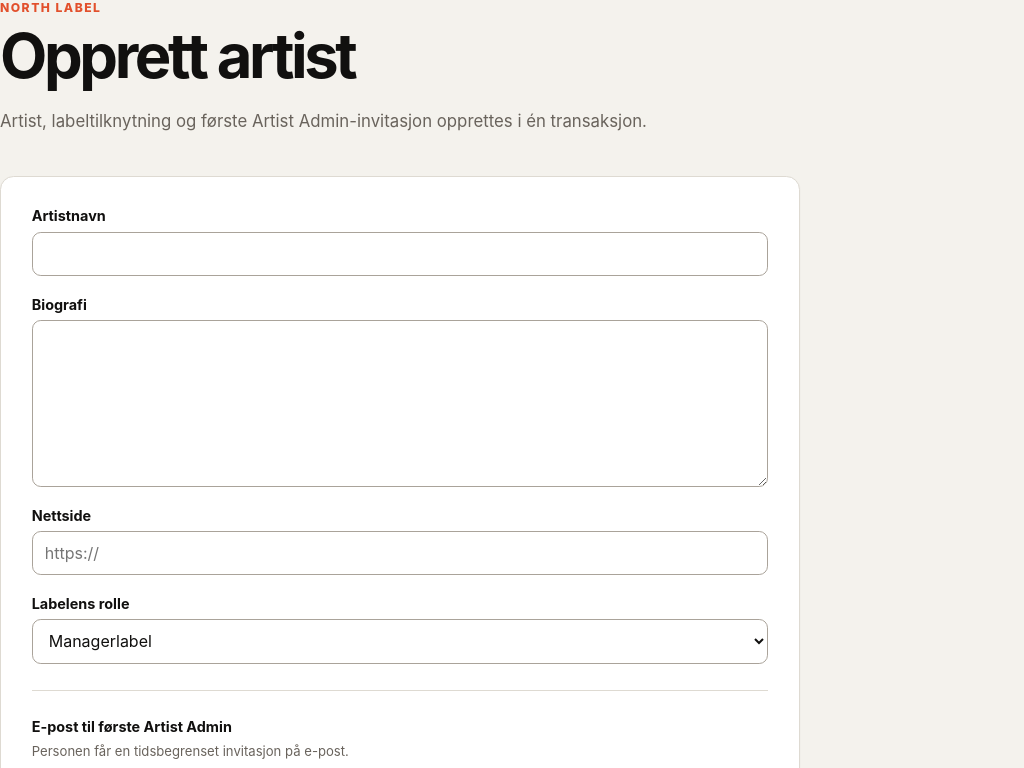
Test: CreateArtistPage › onboards the artist and first Artist Admin in one action
This screenshot has width=1024, height=768.
Step 1. Type "Midnight Echo" into the field labelled "Artistnavn" → (400, 254), box [32,232,768,276]
(page scrolled)
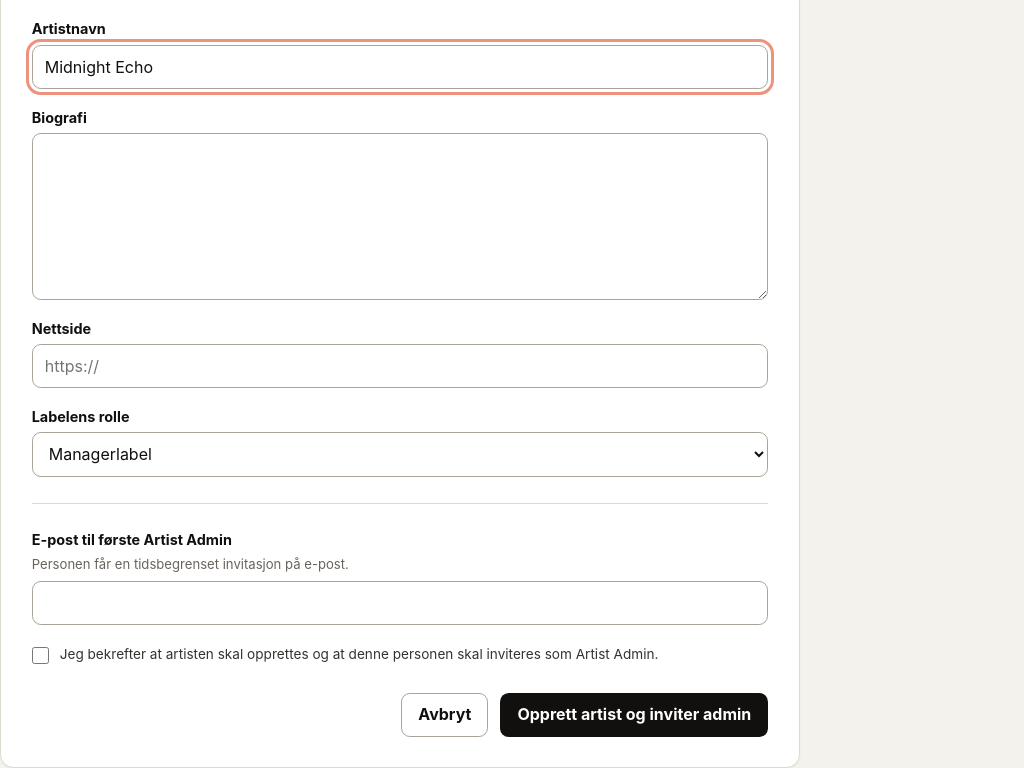
Step 2. Type "artist-admin@example.com" into the field labelled "E-post til første Artist Admin" → (400, 603), box [32,581,768,625]
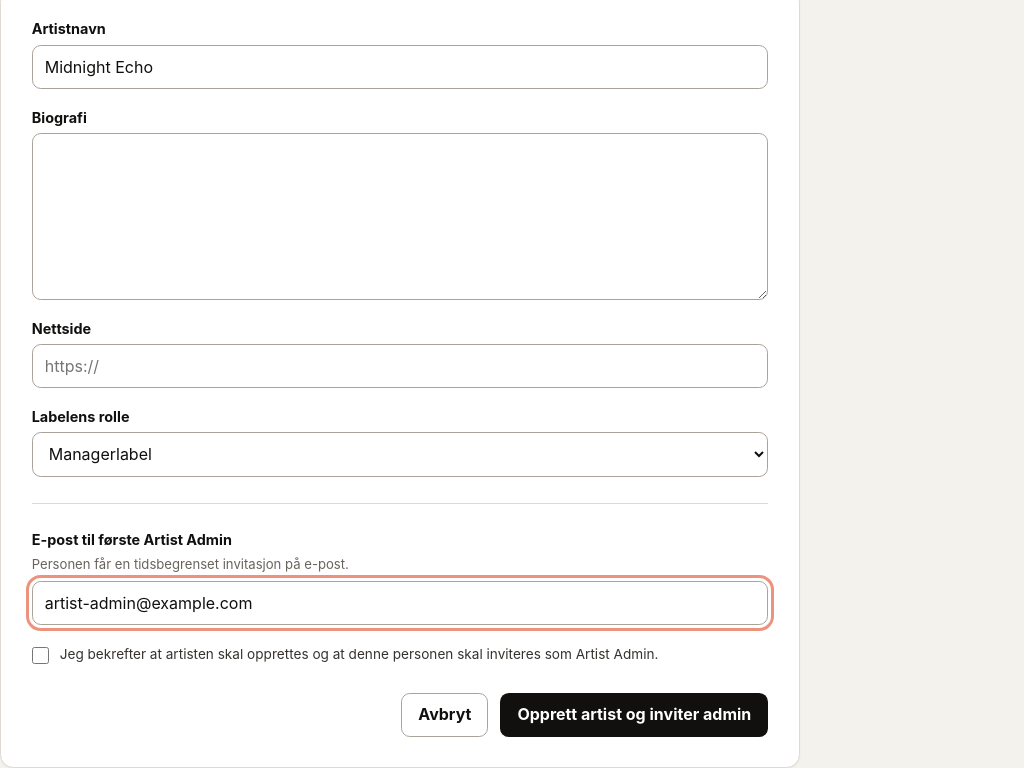
Step 3. Click the checkbox → (40, 656), box [32,647,48,664]
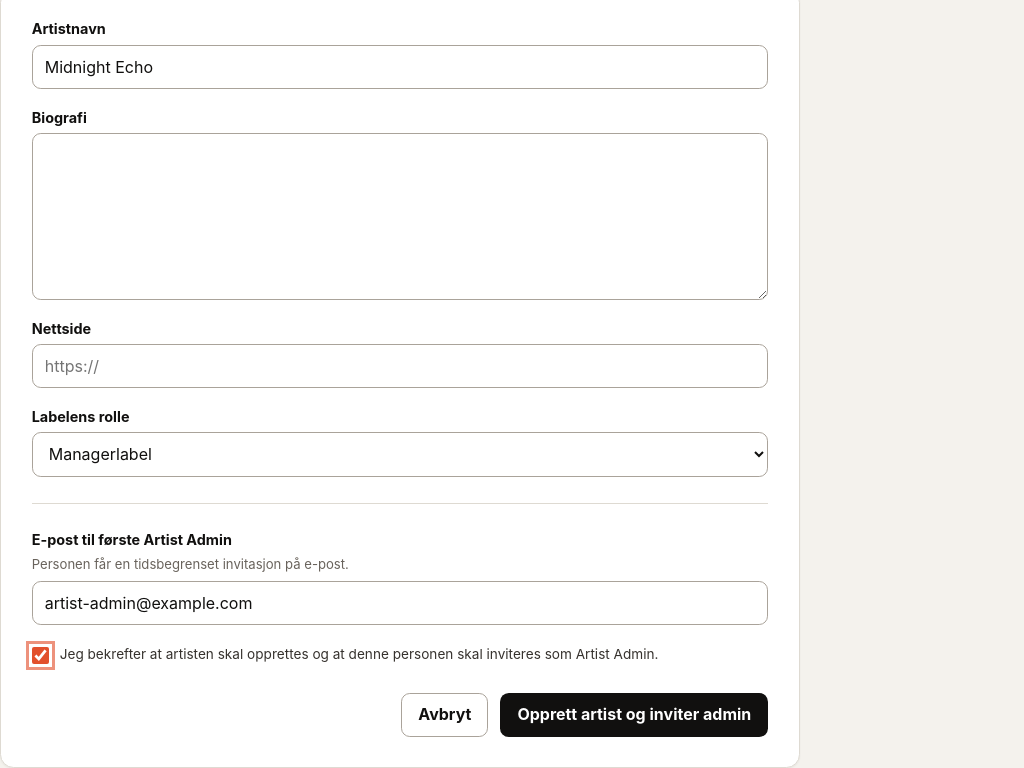
Step 4. Click the button "Opprett artist og inviter admin" → (634, 715), box [500,693,768,737]
(page scrolled)
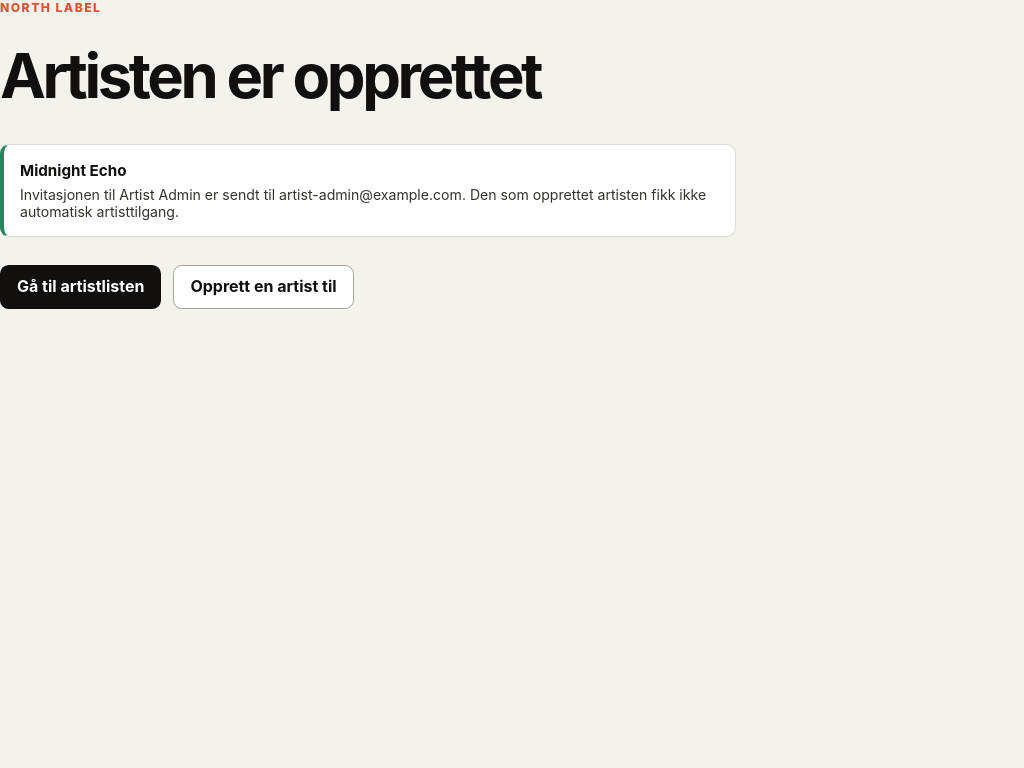
Now the heading "Artisten er opprettet" is shown, box [0,38,540,113]
